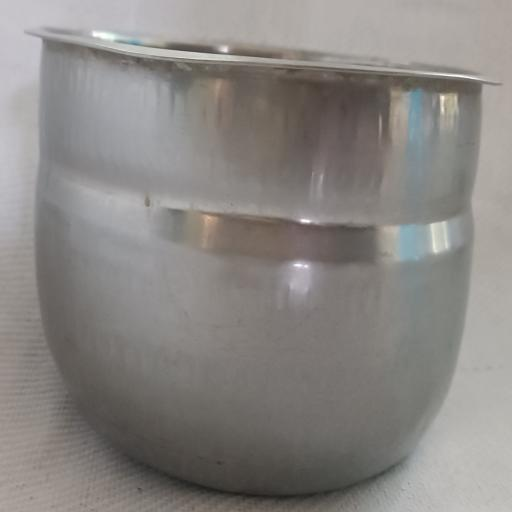vessel: (30, 28, 490, 494)
